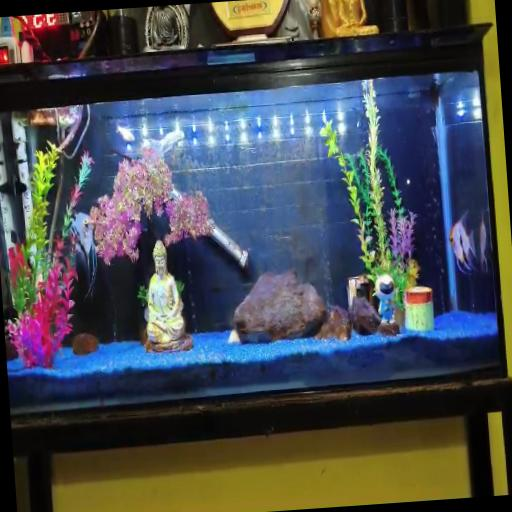Fish: (70, 213, 96, 297), (448, 212, 476, 274), (150, 130, 184, 154), (479, 213, 487, 272), (116, 125, 134, 142)
